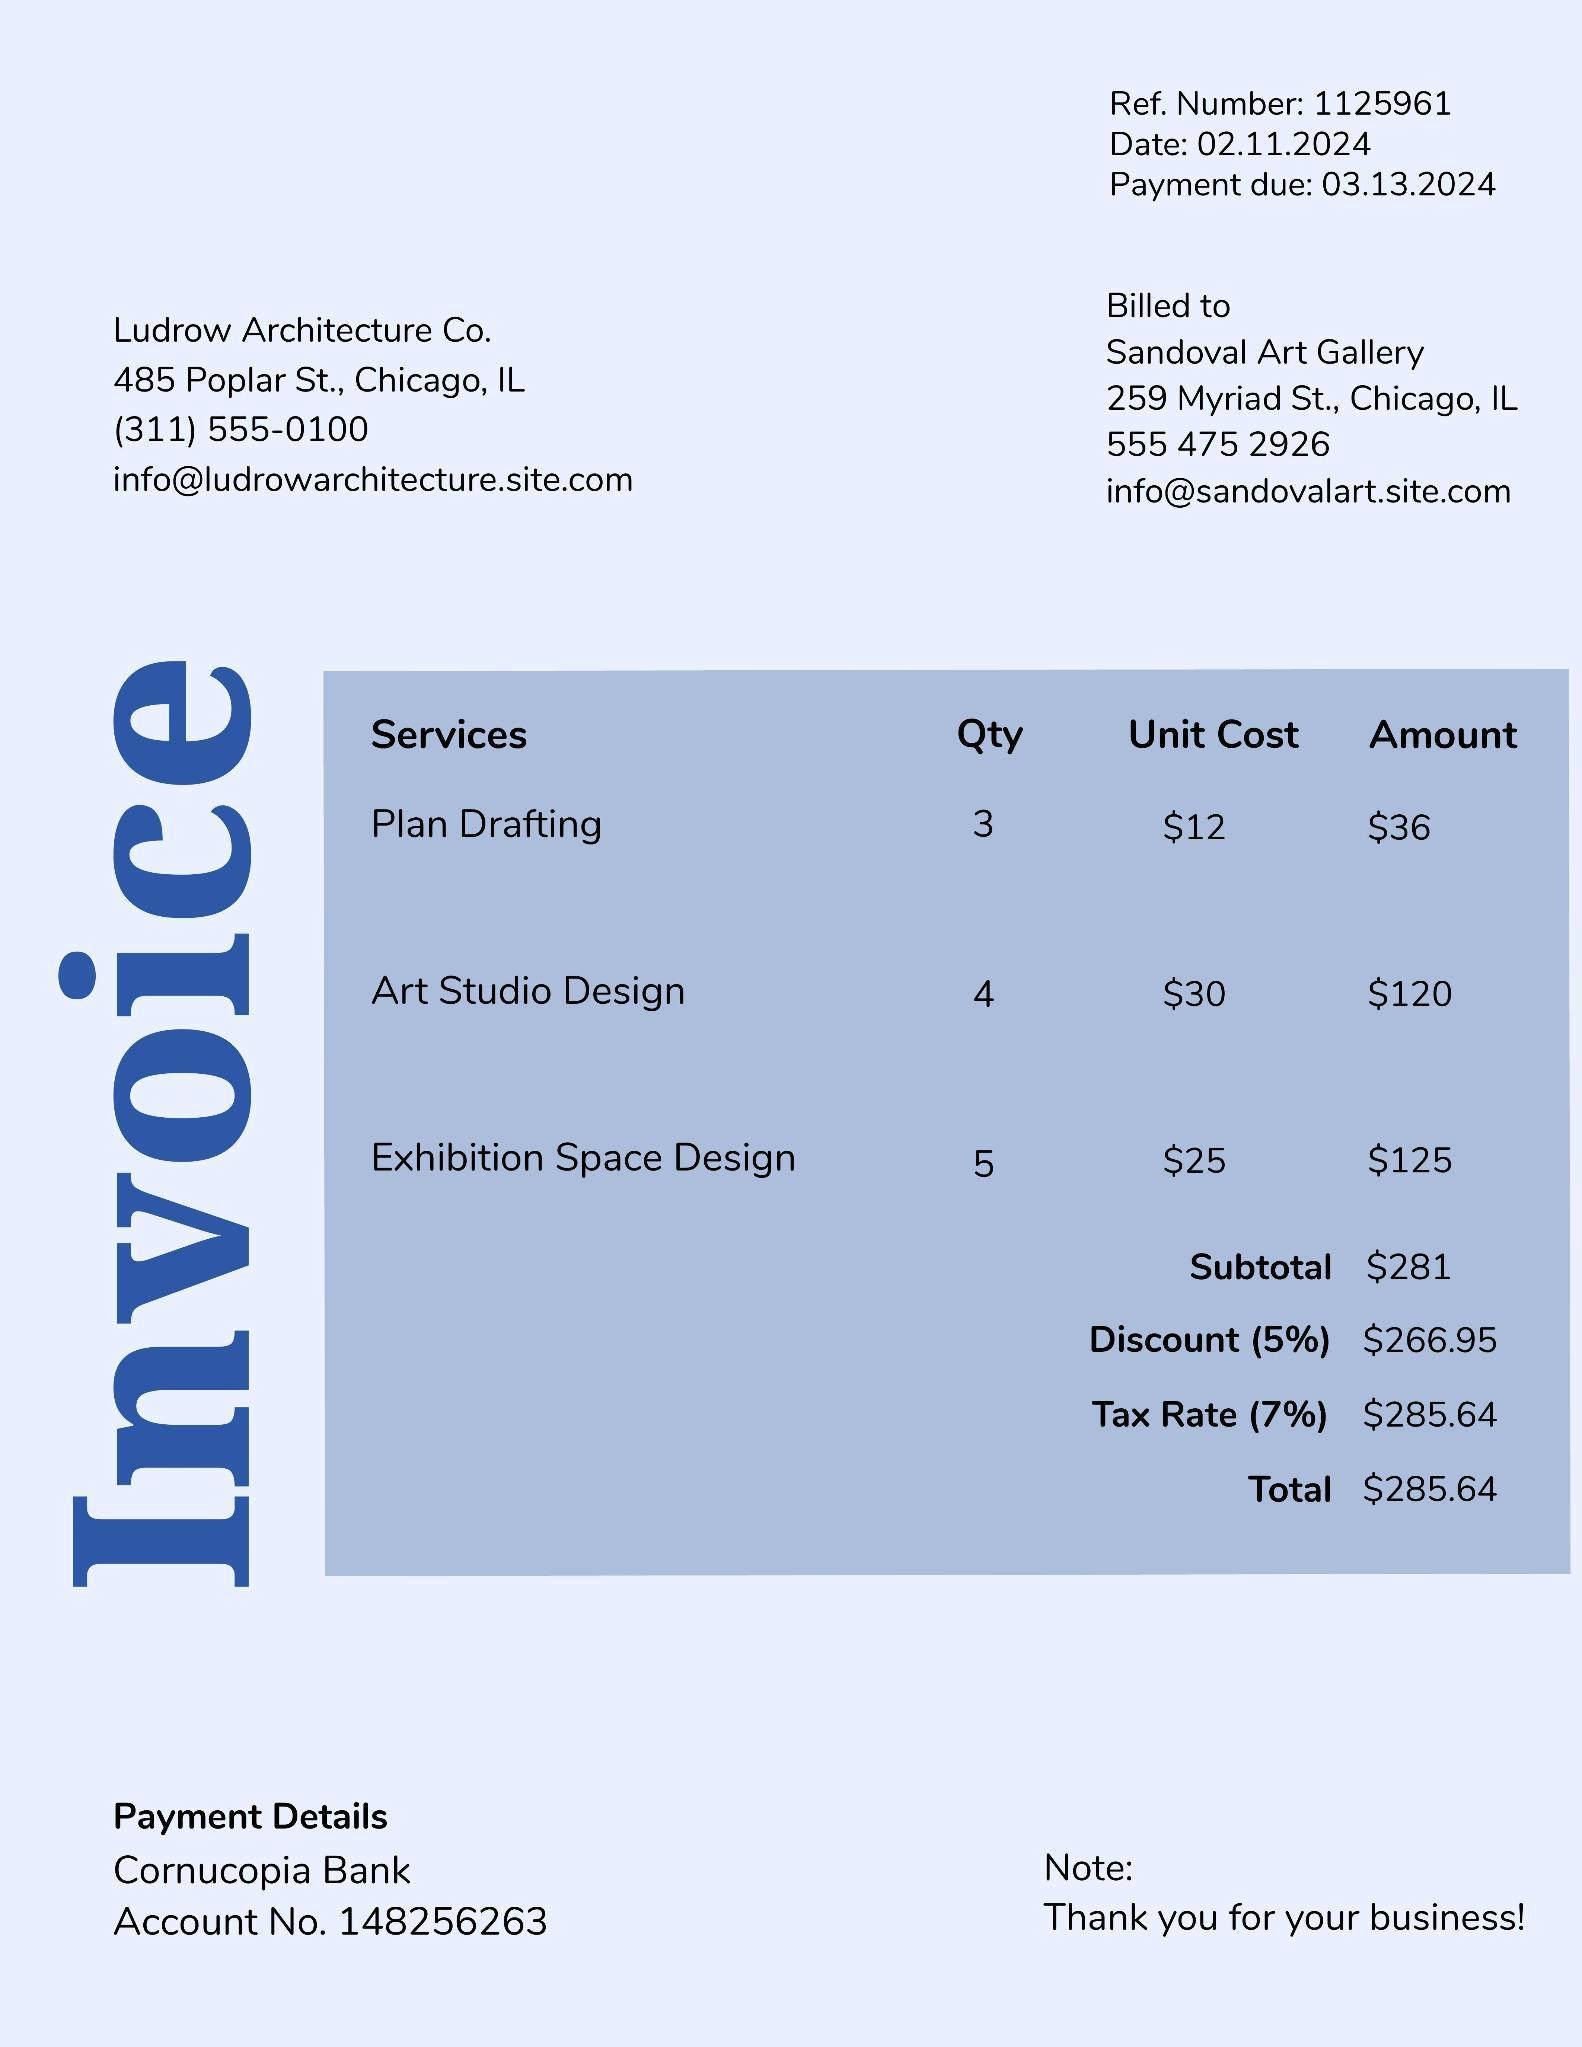ROI: (334, 665, 1540, 1206), (17, 626, 287, 1602), (86, 274, 680, 528), (1069, 1230, 1535, 1545), (1082, 277, 1545, 548), (65, 1775, 573, 1987), (1024, 1819, 1555, 1986), (1087, 55, 1529, 223)
